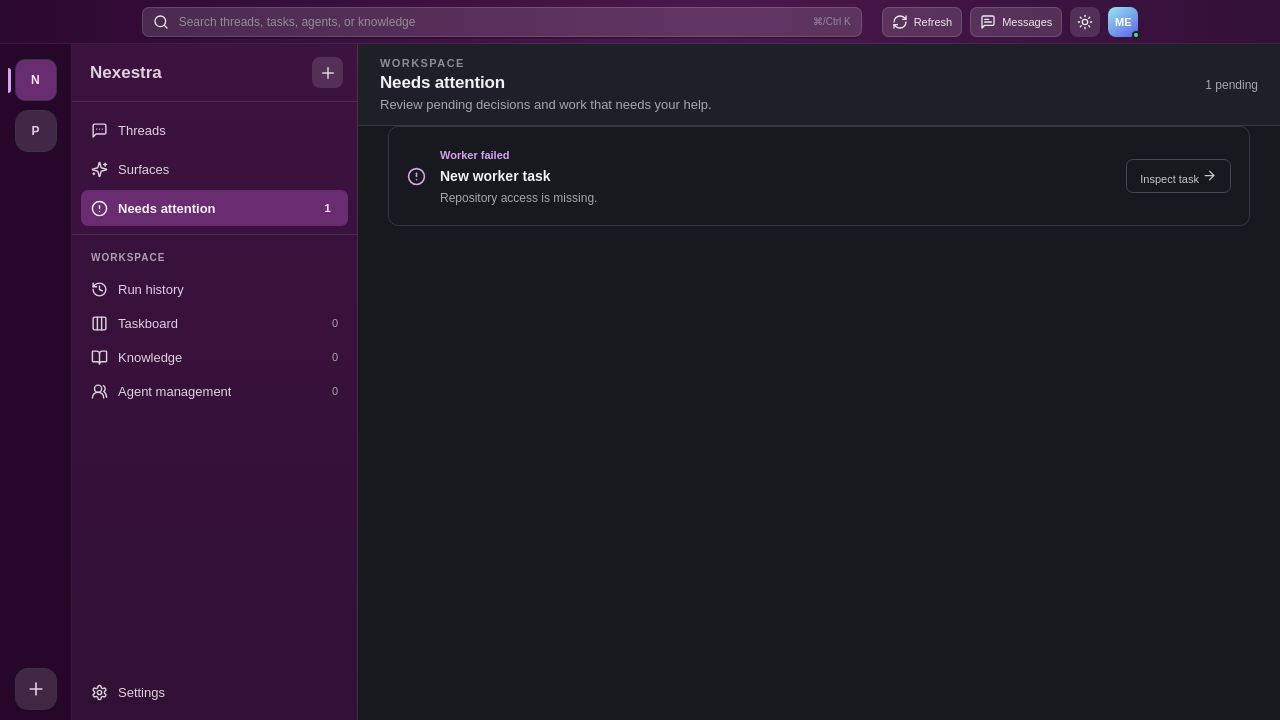
Test case: Workspace attention supervision › loads an uncached attention task and guards workspace switching: true
This screenshot has width=1280, height=720.
Check: the heading "Needs attention" is shown, box 380,73 -> 505,92
Click the button with aria-label "Inspect task: New worker task". click: (1179, 176)
box: 1126,159 -> 1231,193
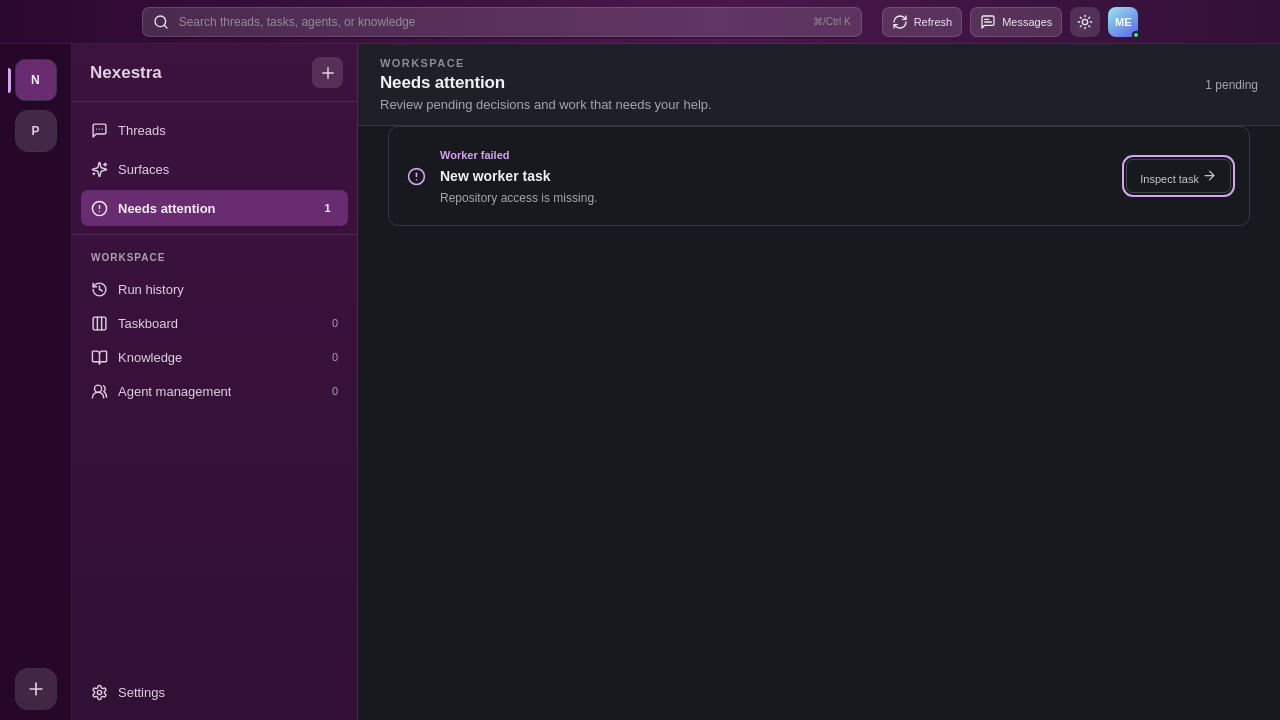
Click the button named "Switch to Product". click: (36, 131)
box: 14,110 -> 56,152
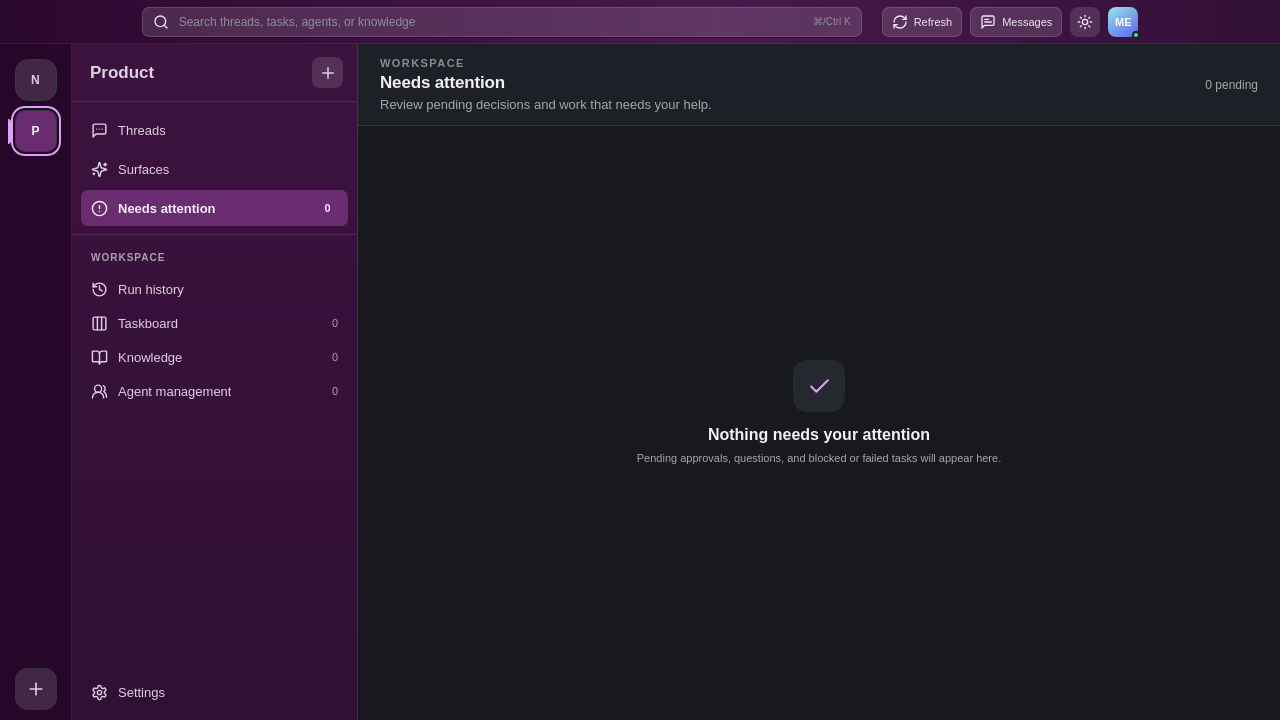
Check: the heading "Nothing needs your attention" is shown, box 708,426 -> 930,444
